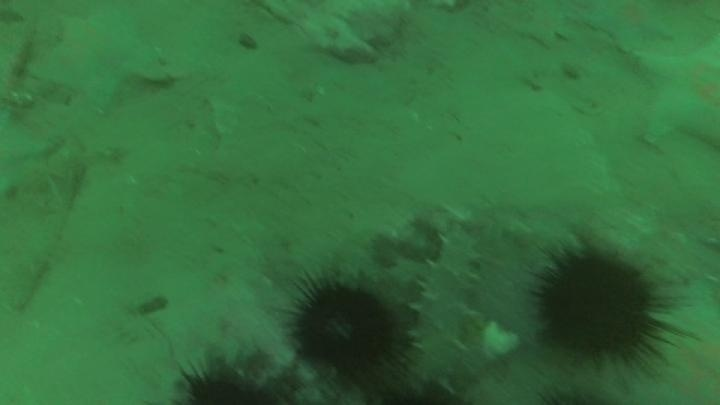echinus: (528, 239, 675, 372), (287, 276, 403, 380), (168, 350, 278, 404)
holothurian: (404, 220, 487, 390)
starfish: (28, 9, 174, 109), (634, 29, 720, 152), (0, 105, 68, 203), (624, 336, 719, 405), (579, 2, 676, 54), (512, 4, 579, 50)
